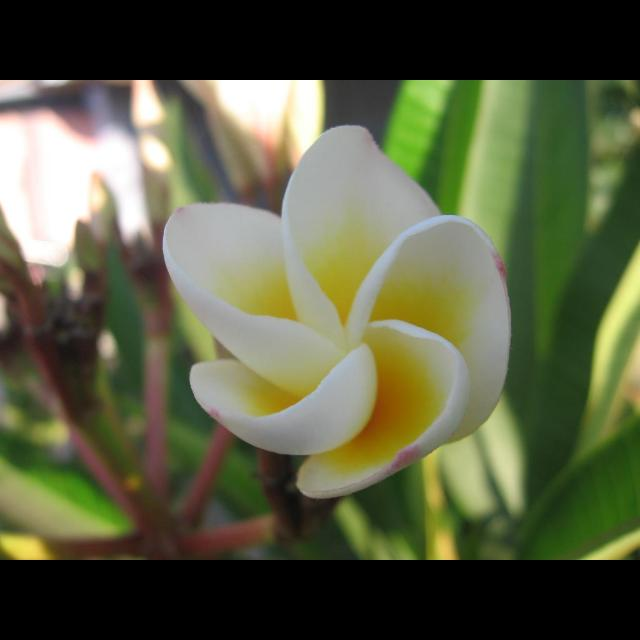Flower: (162, 122, 512, 498)
